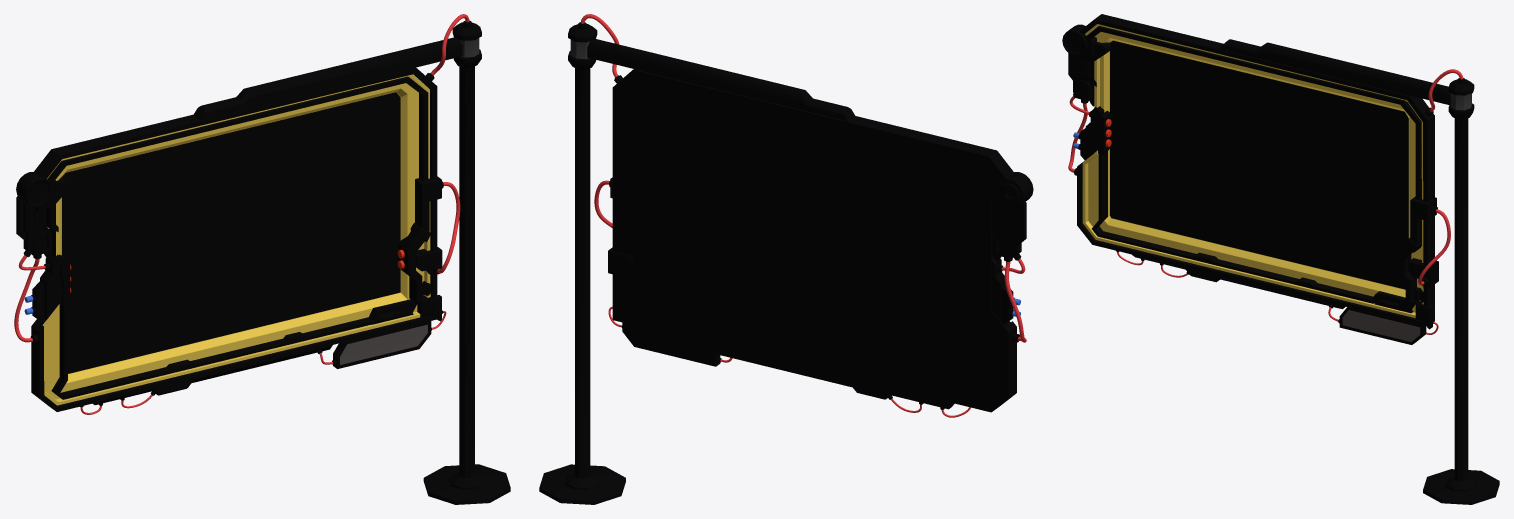
File: digitalBillboard.glb
3 renders of one model, left to right at view 1: azimuth 30°, elevation 25°; view 2: azimuth 150°, elevation 25°; view 3: azimuth 330°, elevation 25°, orthographic. The views are drawn at different scales.
Parts seen in each view (by area): view 1: Body_Cube, Pole_Circle.001, Signal_Comp_Plane, Main_Clamp_Plane.017, Second_Display_Plane.005, Header_Plane.001, Wires_NurbsPath.003, Bottom_Comp_Plane.008, Clamp_2_Plane.015, Battery_Box_Circle, Reciver.001_Plane.011, Wifi_Rec_Plane.004 (+1 smaller); view 2: Body_Cube, Pole_Circle.001, Main_Clamp_Plane.017, Bottom_Comp_Plane.008, Second_Display_Plane.005, Wires_NurbsPath.003, Battery_Clamp_Plane.009, Battery_Box_Circle, Clamp_2_Plane.015; view 3: Body_Cube, Pole_Circle.001, Signal_Comp_Plane, Main_Clamp_Plane.017, Second_Display_Plane.005, Header_Plane.001, Wires_NurbsPath.003, Bottom_Comp_Plane.008, Battery_Box_Circle, Clamp_2_Plane.015, Mini_Comp_Plane.003, Wifi_Rec_Plane.004.
Part boxes in pixels (x1,y1,x2,y2): Body_Cube: (31, 67, 437, 411); Pole_Circle.001: (423, 22, 510, 504); Signal_Comp_Plane: (47, 76, 428, 399); Main_Clamp_Plane.017: (193, 37, 462, 119); Second_Display_Plane.005: (333, 321, 431, 368); Header_Plane.001: (398, 176, 441, 303); Wires_NurbsPath.003: (14, 14, 469, 414); Bottom_Comp_Plane.008: (93, 345, 332, 404); Clamp_2_Plane.015: (40, 253, 63, 319); Battery_Box_Circle: (16, 172, 52, 207); Reciver.001_Plane.011: (23, 223, 47, 255); Wifi_Rec_Plane.004: (372, 299, 417, 324); Body_Cube: (612, 69, 1016, 412); Pole_Circle.001: (539, 24, 625, 504); Main_Clamp_Plane.017: (587, 39, 855, 121); Bottom_Comp_Plane.008: (708, 343, 954, 409); Second_Display_Plane.005: (622, 322, 720, 366); Wires_NurbsPath.003: (580, 14, 1026, 417); Battery_Clamp_Plane.009: (996, 201, 1026, 245); Battery_Box_Circle: (997, 172, 1033, 207); Clamp_2_Plane.015: (991, 257, 1005, 321); Body_Cube: (1077, 14, 1434, 326); Pole_Circle.001: (1423, 79, 1499, 504); Signal_Comp_Plane: (1085, 26, 1421, 303); Main_Clamp_Plane.017: (1220, 39, 1450, 105); Second_Display_Plane.005: (1339, 307, 1426, 344); Header_Plane.001: (1398, 196, 1436, 303); Wires_NurbsPath.003: (1068, 69, 1463, 334); Bottom_Comp_Plane.008: (1132, 254, 1345, 309); Battery_Box_Circle: (1062, 24, 1087, 56); Clamp_2_Plane.015: (1085, 106, 1104, 159); Mini_Comp_Plane.003: (1408, 258, 1438, 286); Wifi_Rec_Plane.004: (1374, 292, 1417, 313).
Size of the model in its own units: 5.51 by 5.14 by 0.8814.
